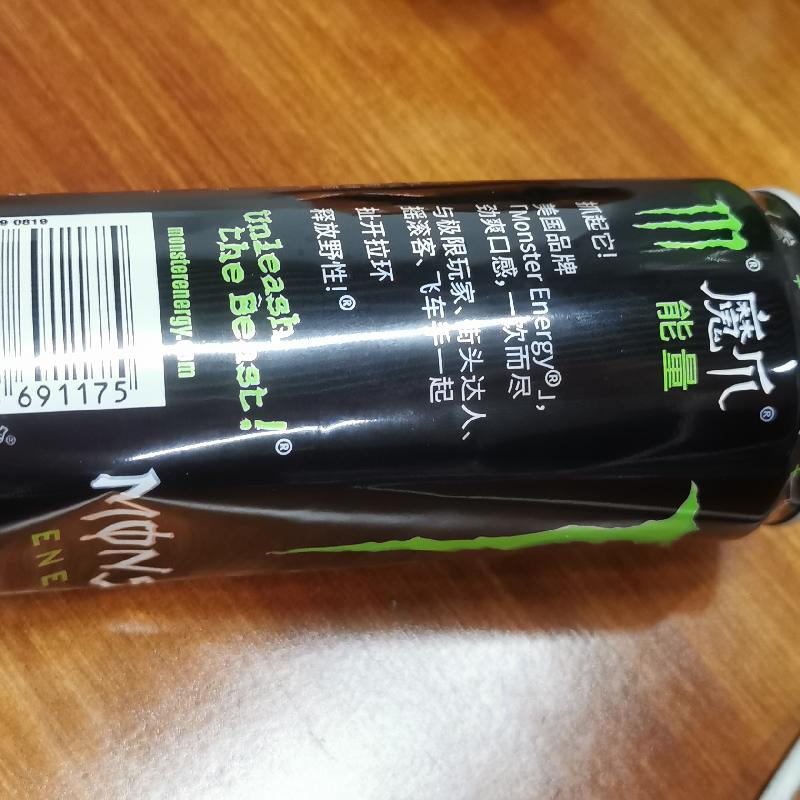cans: (5, 172, 799, 586)
